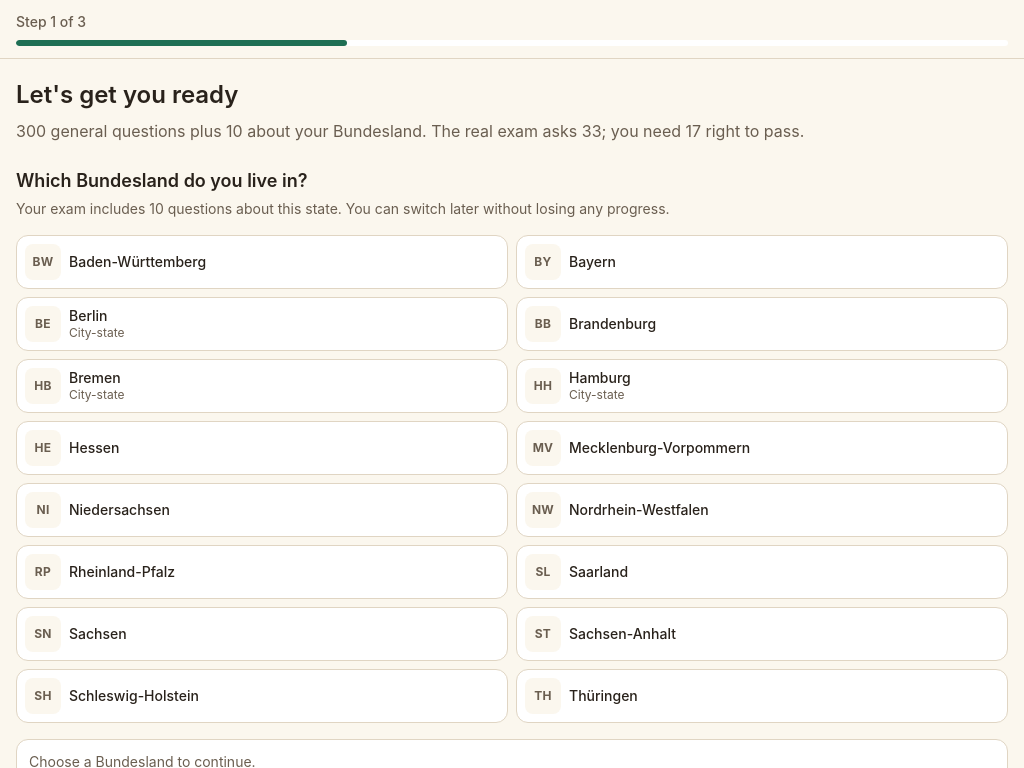
it: Onboarding — the whole wizard › has no sync step at all when Firebase is unconfigured
Click the radio button labelled "Bayern".
click(543, 262)  # box [516,235,1008,289]
(page scrolled)
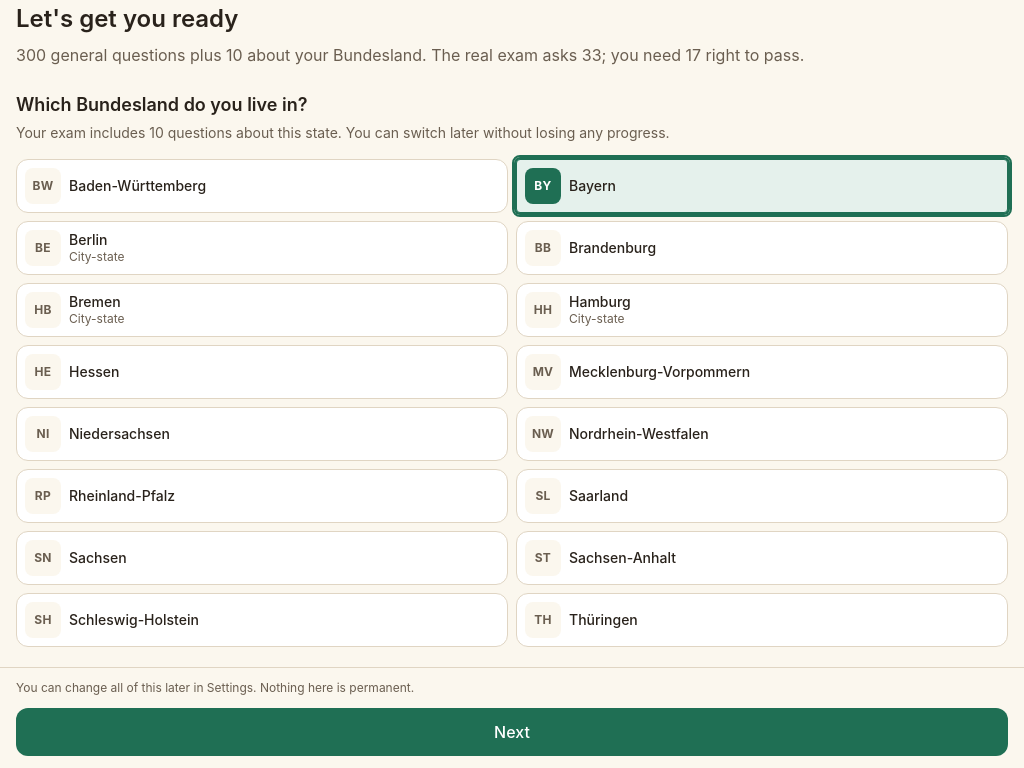
Now the button with test id "onb-primary" is enabled
Click the button with test id "onb-primary".
click(512, 732)  # box [16,708,1008,756]
(page scrolled)
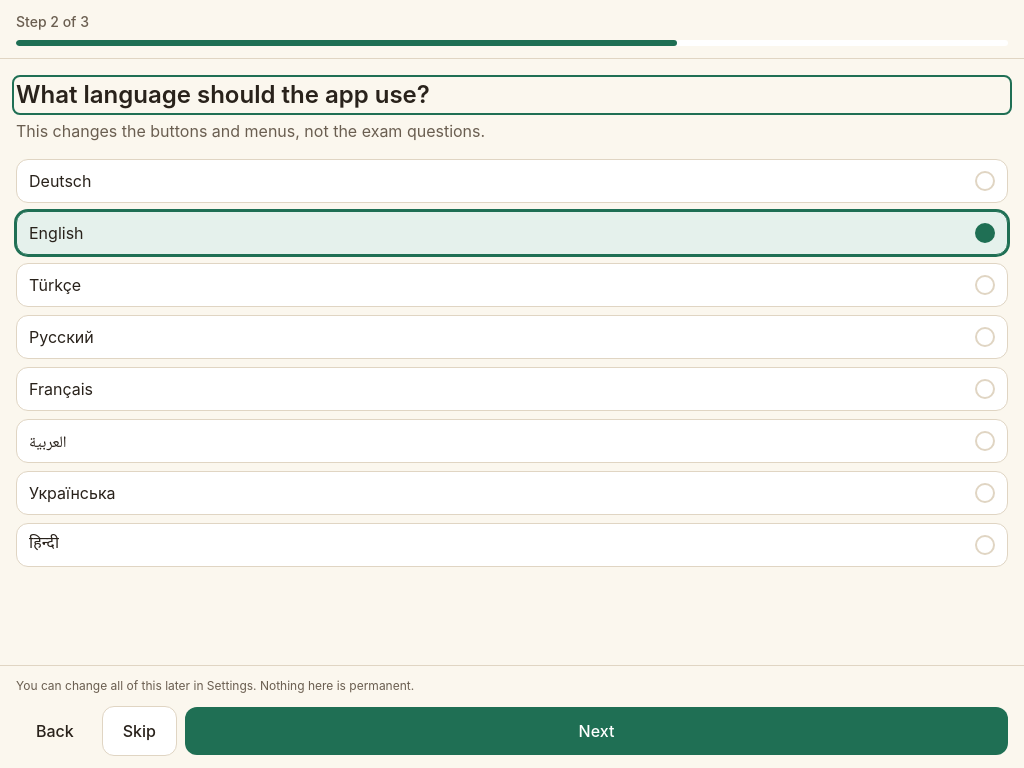
Now the button with test id "onb-primary" is enabled
Click the button with test id "onb-primary".
click(596, 731)  # box [185,707,1008,755]
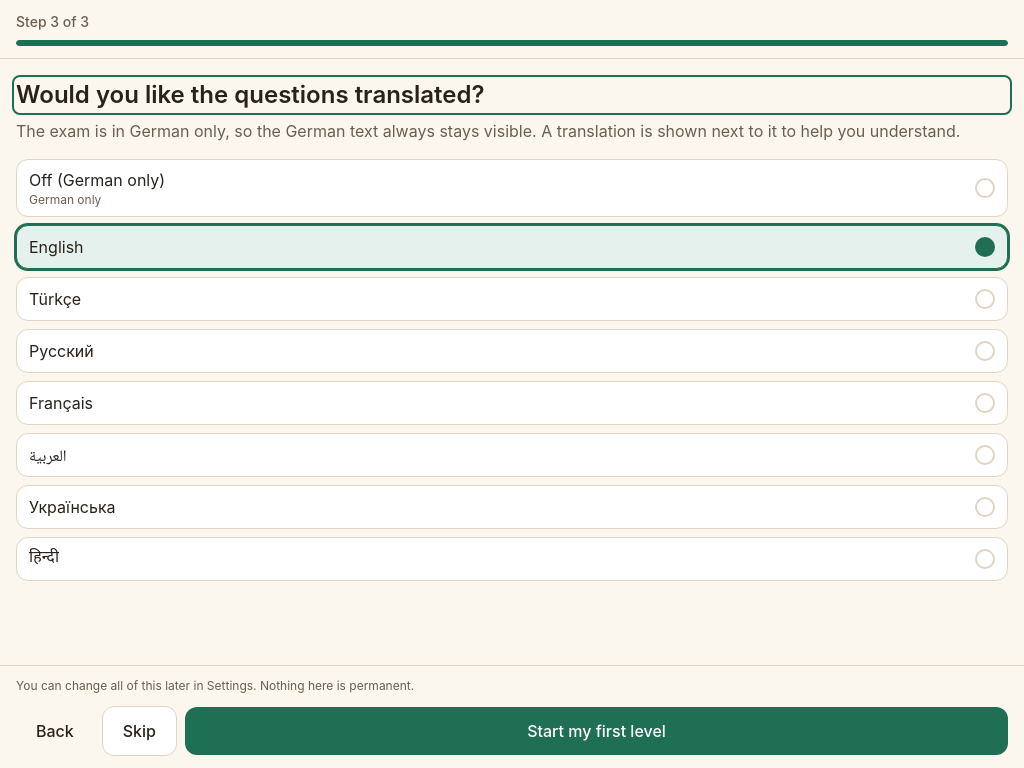
Now the text with test id "onb-step" reads "Step 3 of 3", box [16,13,89,30]
